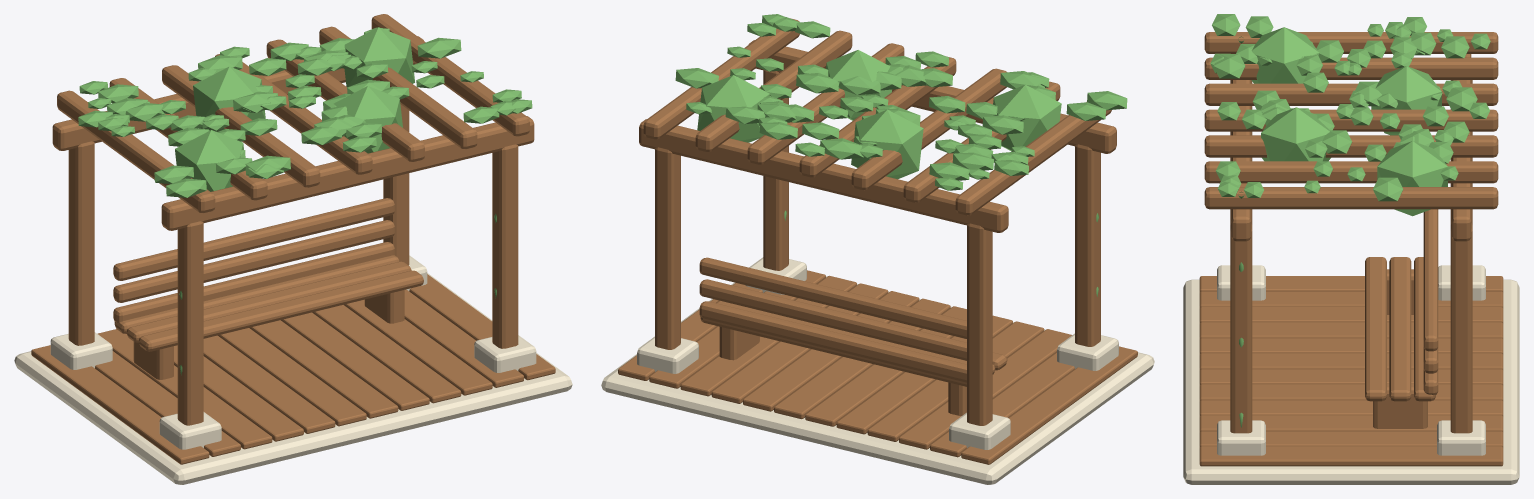
Rendered from pergola.glb.
3 renders of one model, left to right at view 1: azimuth 30°, elevation 25°; view 2: azimuth 150°, elevation 25°; view 3: azimuth 270°, elevation 25°, orthographic.
Visible parts, largest first — view 1: pergola_platform, pergola_beam, pergola_post.001, pergola_post.002, pergola_post, pergola_bench_back.002, pergola_bench_back.001, pergola_bench_seat, pergola_floorboard, pergola_bench_back, pergola_floorboard.006, pergola_floorboard.007 (+33 smaller); view 2: pergola_platform, pergola_beam.001, pergola_post.001, pergola_post.003, pergola_post, pergola_bench_back, pergola_bench_back.002, pergola_bench_back.001, pergola_floorboard, pergola_floorboard.002, pergola_floorboard.003, pergola_roof_slat (+38 smaller); view 3: pergola_platform, pergola_roof_slat.006, pergola_floorboard.011, pergola_post.003, pergola_post.002, pergola_roof_slat.005, pergola_roof_slat.002, pergola_roof_slat.001, pergola_floorboard.008, pergola_floorboard.010, pergola_bench_seat.001, pergola_roof_slat.004 (+44 smaller).
Part boxes in pixels (<box>): pergola_platform: <box>14,273,572,484</box>; pergola_beam: <box>161,116,534,230</box>; pergola_post.001: <box>68,141,94,345</box>; pergola_post.002: <box>492,144,518,348</box>; pergola_post: <box>177,221,203,425</box>; pergola_bench_back.002: <box>113,198,394,280</box>; pergola_bench_back.001: <box>113,220,394,302</box>; pergola_bench_seat: <box>139,270,423,351</box>; pergola_floorboard: <box>31,345,209,464</box>; pergola_bench_back: <box>113,242,394,322</box>; pergola_floorboard.006: <box>249,320,398,418</box>; pergola_floorboard.007: <box>281,312,429,410</box>; pergola_platform: <box>601,276,1154,484</box>; pergola_beam.001: <box>639,119,1008,232</box>; pergola_post.001: <box>967,223,992,425</box>; pergola_post.003: <box>655,147,680,349</box>; pergola_post: <box>1075,144,1100,346</box>; pergola_bench_back: <box>699,301,966,382</box>; pergola_bench_back.002: <box>699,257,966,338</box>; pergola_bench_back.001: <box>699,279,966,360</box>; pergola_floorboard: <box>961,346,1137,464</box>; pergola_floorboard.002: <box>899,329,1071,449</box>; pergola_floorboard.003: <box>867,321,1044,441</box>; pergola_roof_slat: <box>955,102,1111,215</box>; pergola_platform: <box>1183,279,1519,484</box>; pergola_roof_slat.006: <box>1204,187,1498,209</box>; pergola_floorboard.011: <box>1199,446,1503,466</box>; pergola_post.003: <box>1450,223,1472,433</box>; pergola_post.002: <box>1230,223,1252,433</box>; pergola_roof_slat.005: <box>1204,161,1498,183</box>; pergola_roof_slat.002: <box>1204,83,1498,105</box>; pergola_roof_slat.001: <box>1204,57,1498,79</box>; pergola_floorboard.008: <box>1199,400,1503,416</box>; pergola_floorboard.010: <box>1199,431,1503,447</box>; pergola_bench_seat.001: <box>1389,257,1411,401</box>; pergola_roof_slat.004: <box>1204,135,1498,157</box>.
Size of the model in its own units: 3.8 by 2.76 by 2.75.
